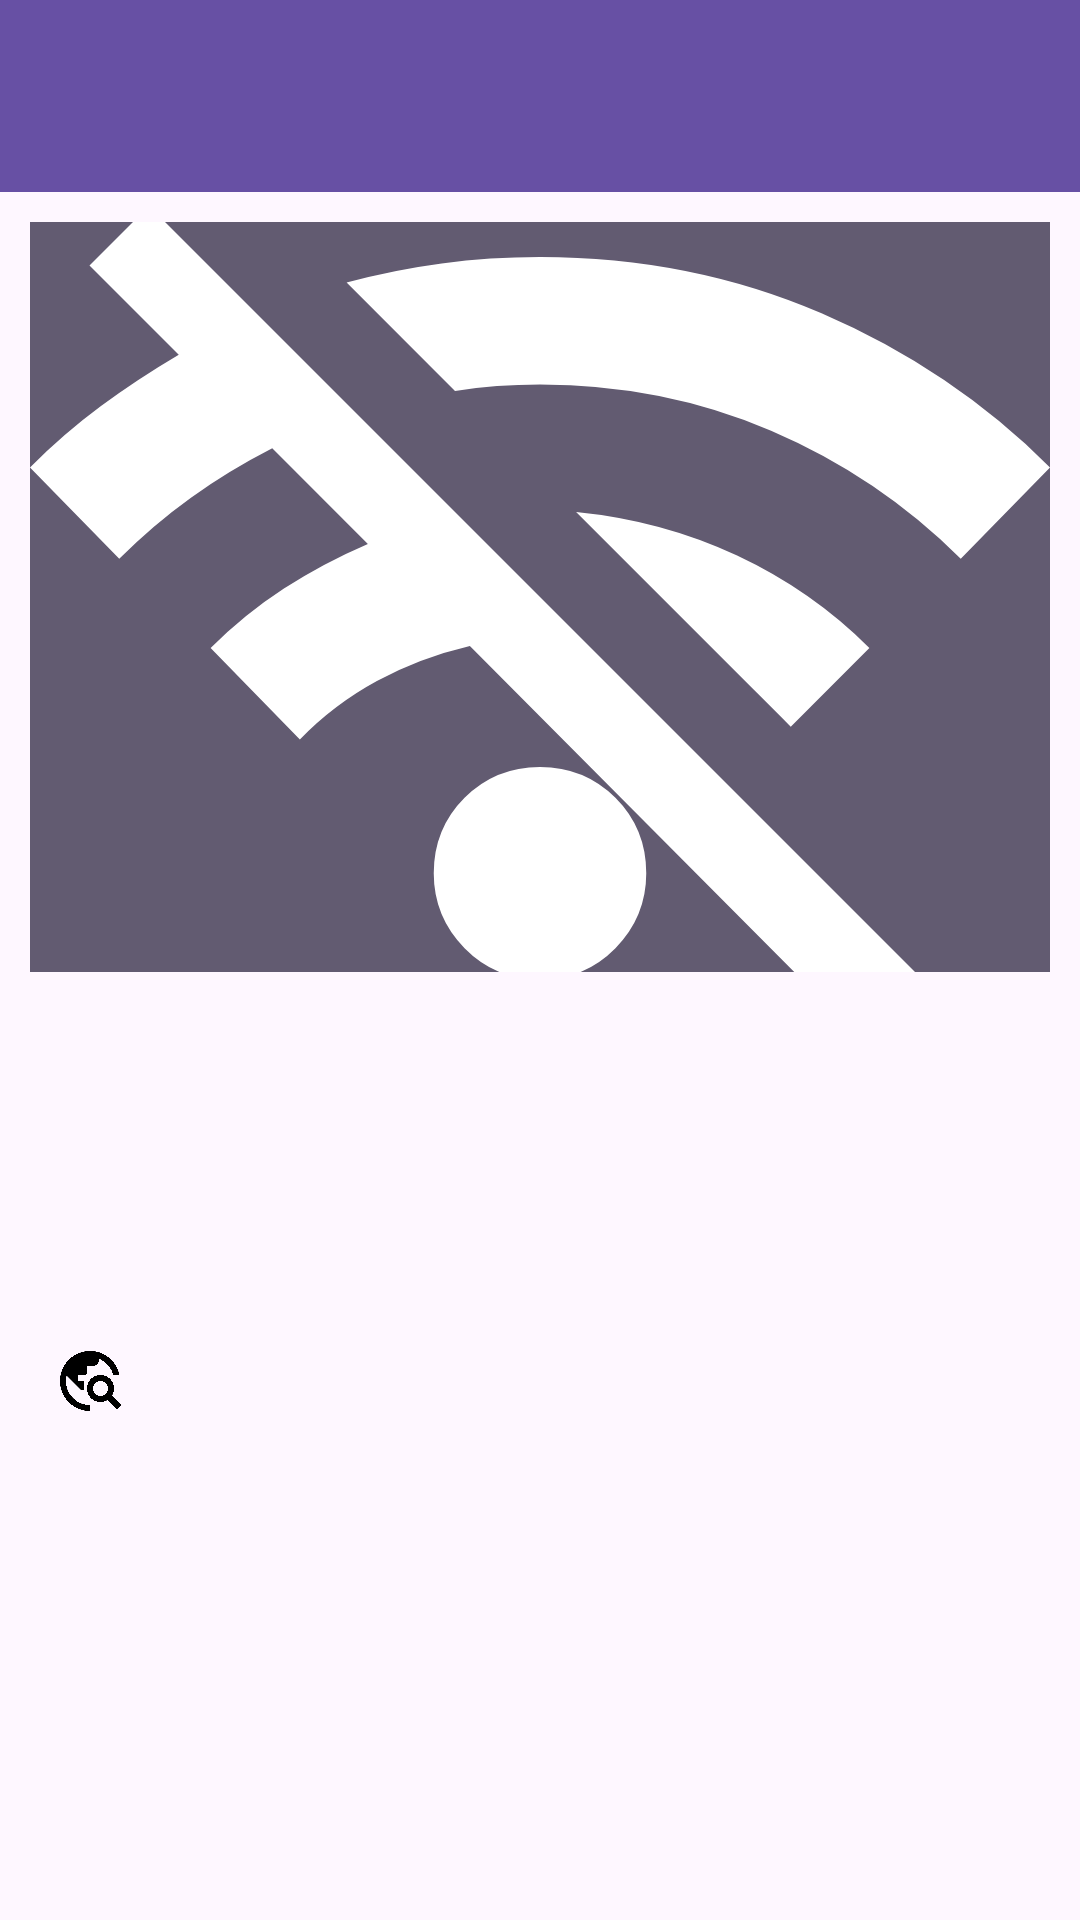

Point at icon controls on the screen. Image size 1080x1920, points as (x=x, y=y).
travel explore: (x=90, y=1381)
